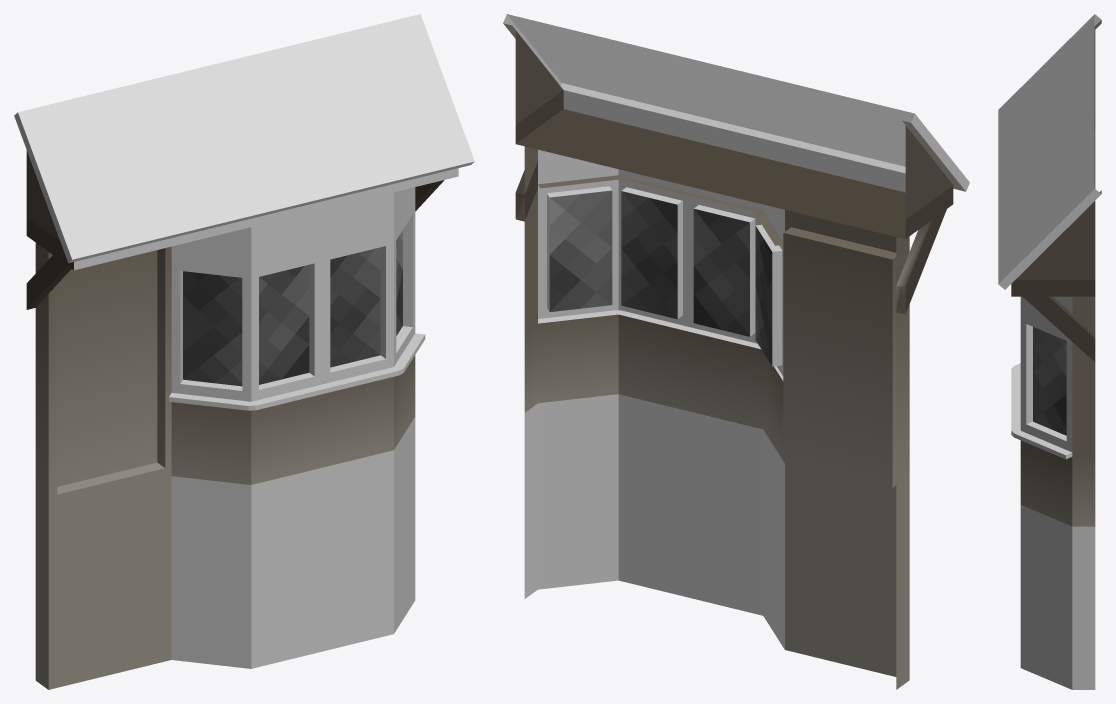
Rendered from Front_2.fbx.
3 views of the same model, side by side, from view 1: azimuth 30°, elevation 25°; view 2: azimuth 150°, elevation 25°; view 3: azimuth 270°, elevation 25° (orthographic). The views are drawn at different scales.
Parts seen in each view (by area): view 1: Front_B.010, Front_B.006, Front_B.001, Front_B.005, Front_B.017, Front_B.011, Front_B.004, Front_B.019, Front_B.002, Front_B.021, Front_B.020, Front_B.008 (+7 smaller); view 2: Front_B.006, Front_B.001, Front_B.005, Front_B, Front_B.010, Front_B.017, Front_B.022, Front_B.013, Front_B.009, Front_B.021, Front_B.020, Front_B.002 (+9 smaller); view 3: Front_B.010, Front_B.006, Front_B.007, Front_B.009, Front_B.005, Front_B.022, Front_B.011, Front_B.017, Front_B.003, Front_B.012, Front_B.024, Front_B.023 (+1 smaller).
Part boxes in pixels (bbox=[...]): Front_B.010: bbox=[30, 26, 461, 247]; Front_B.006: bbox=[171, 417, 415, 668]; Front_B.001: bbox=[57, 250, 165, 687]; Front_B.005: bbox=[171, 355, 415, 484]; Front_B.017: bbox=[171, 201, 415, 401]; Front_B.011: bbox=[18, 14, 474, 259]; Front_B.004: bbox=[171, 187, 415, 268]; Front_B.019: bbox=[183, 271, 242, 386]; Front_B.002: bbox=[35, 243, 48, 689]; Front_B.021: bbox=[330, 247, 380, 367]; Front_B.020: bbox=[259, 265, 309, 384]; Front_B.008: bbox=[48, 285, 57, 689]; Front_B.006: bbox=[524, 394, 784, 649]; Front_B.001: bbox=[783, 211, 896, 676]; Front_B.005: bbox=[538, 314, 784, 463]; Front_B: bbox=[503, 23, 965, 245]; Front_B.010: bbox=[520, 21, 912, 163]; Front_B.017: bbox=[538, 179, 783, 375]; Front_B.022: bbox=[549, 190, 612, 311]; Front_B.013: bbox=[563, 90, 905, 192]; Front_B.009: bbox=[515, 30, 953, 238]; Front_B.021: bbox=[621, 191, 677, 319]; Front_B.020: bbox=[693, 209, 749, 336]; Front_B.002: bbox=[896, 236, 909, 689]; Front_B.010: bbox=[1004, 24, 1088, 273]; Front_B.006: bbox=[1020, 505, 1095, 689]; Front_B.007: bbox=[1072, 296, 1095, 526]; Front_B.009: bbox=[1011, 30, 1095, 296]; Front_B.005: bbox=[1020, 440, 1072, 526]; Front_B.022: bbox=[1033, 327, 1066, 435]; Front_B.011: bbox=[998, 14, 1094, 283]; Front_B.017: bbox=[1020, 313, 1072, 452]; Front_B.003: bbox=[1023, 296, 1095, 362]; Front_B.012: bbox=[998, 14, 1101, 289]; Front_B.024: bbox=[1011, 363, 1072, 459]; Front_B.023: bbox=[1026, 324, 1032, 423].
Bounding box in the file's own units: 449 × 610 × 112.
